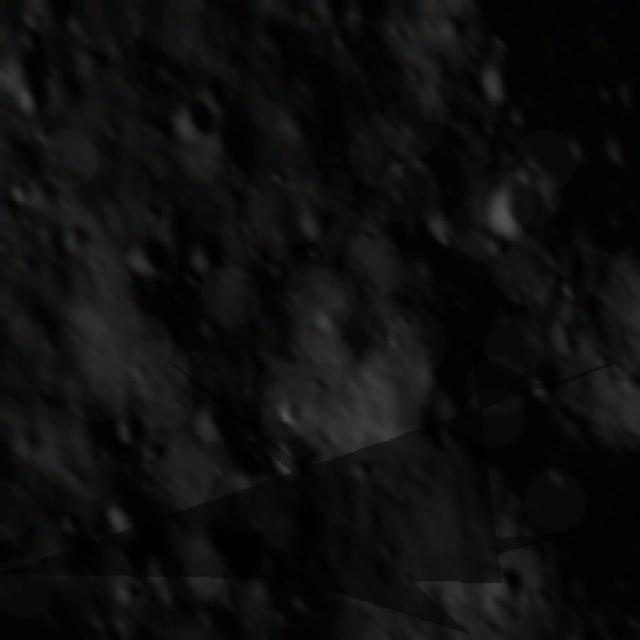crater: (527, 3, 604, 74), (480, 170, 554, 242), (94, 479, 163, 547), (594, 472, 640, 566), (181, 384, 244, 450), (114, 217, 174, 286), (135, 538, 194, 608), (472, 47, 540, 107), (256, 428, 324, 486), (160, 86, 222, 148), (182, 226, 238, 279), (553, 114, 605, 168), (418, 190, 471, 242), (521, 357, 573, 406), (612, 41, 640, 130), (3, 72, 54, 116), (603, 116, 640, 175), (308, 300, 352, 346), (110, 404, 152, 450), (272, 392, 311, 433), (3, 174, 39, 211), (55, 507, 87, 533)
